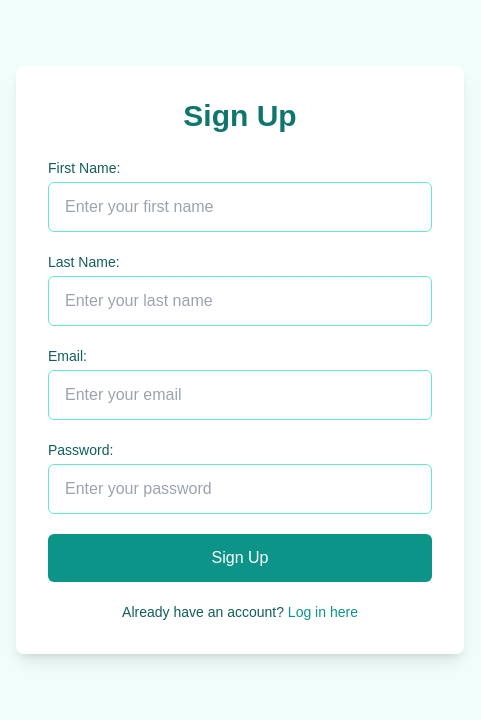
signup_page_test › Should not let users register with empty credentials
The width and height of the screenshot is (481, 720).
Click the submit button.
click(240, 558)  # box [48,534,432,582]
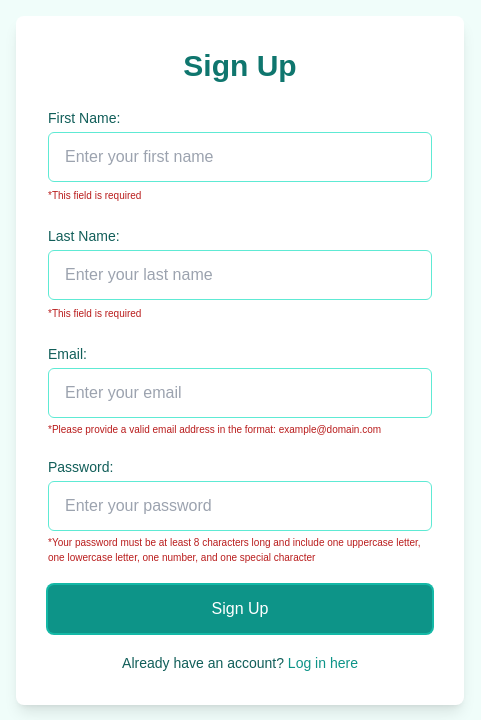
Now the text with class "error_message" below "First Name:" is shown, box [48,188,141,203]
Now the number of elements with class "error_message" is 4, box [48,188,141,202]; [48,306,141,320]; [48,422,432,436]; [48,534,432,564]
